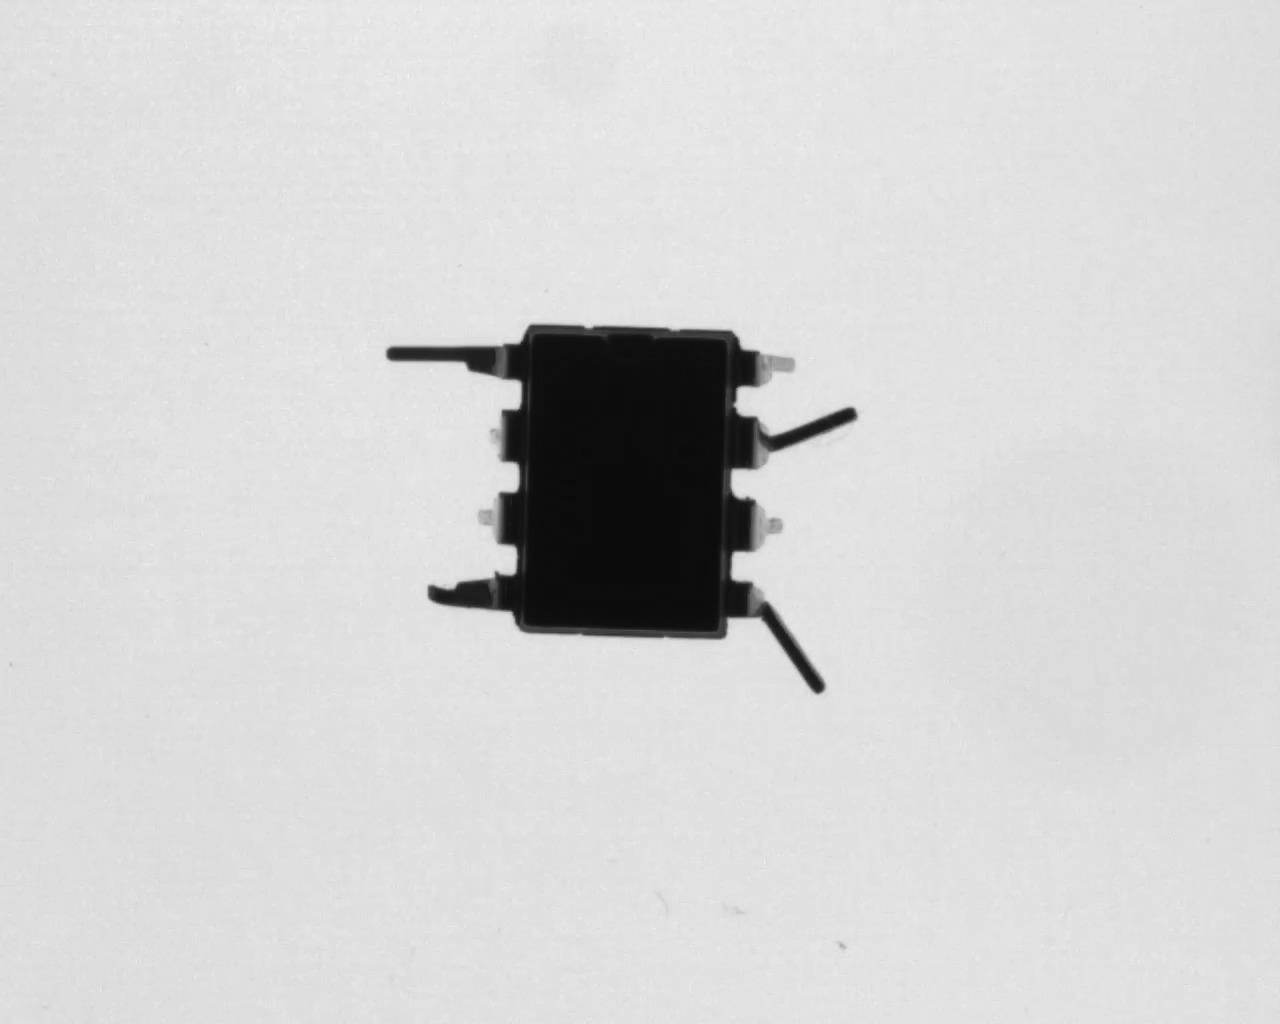Leg: (723, 575, 835, 703), (719, 404, 871, 462), (377, 334, 526, 390), (418, 571, 519, 622), (723, 347, 808, 392), (729, 501, 790, 559), (466, 489, 520, 550), (478, 405, 529, 463)
